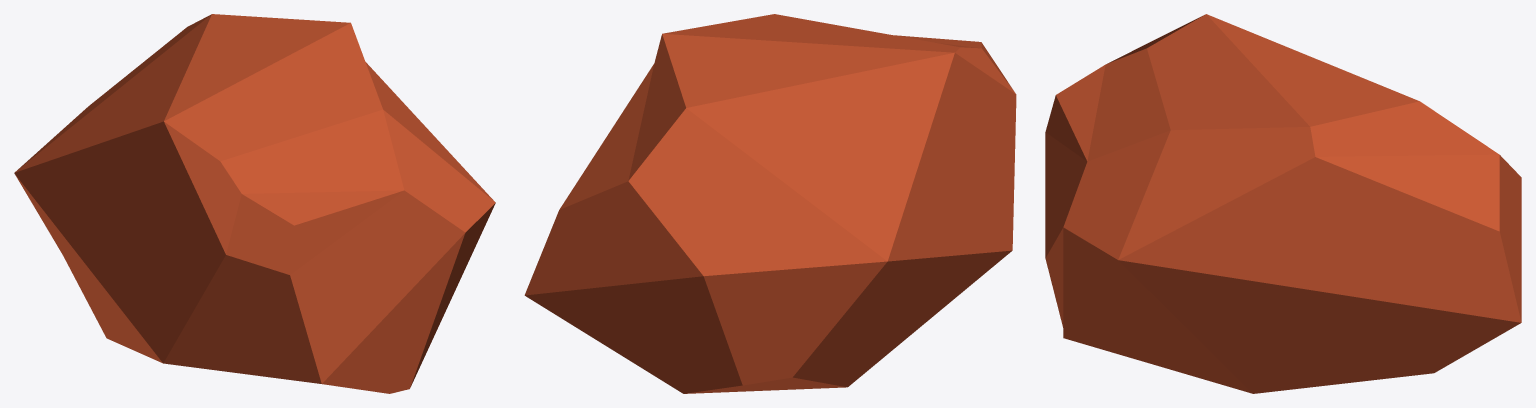
Rendered from Rock_01.fbx.
3 views of the same model, side by side, from view 1: azimuth 30°, elevation 25°; view 2: azimuth 150°, elevation 25°; view 3: azimuth 270°, elevation 25° (orthographic). The views are drawn at different scales.
Parts seen in each view (by area): view 1: Rock_01; view 2: Rock_01; view 3: Rock_01.
Part boxes in pixels (box(x1,y1,x2,y2)): Rock_01: box(14, 14, 495, 393); Rock_01: box(524, 14, 1016, 393); Rock_01: box(1045, 14, 1521, 393).
Size of the model in its own units: 148 by 123 by 195.
1 material, 1 textured.
